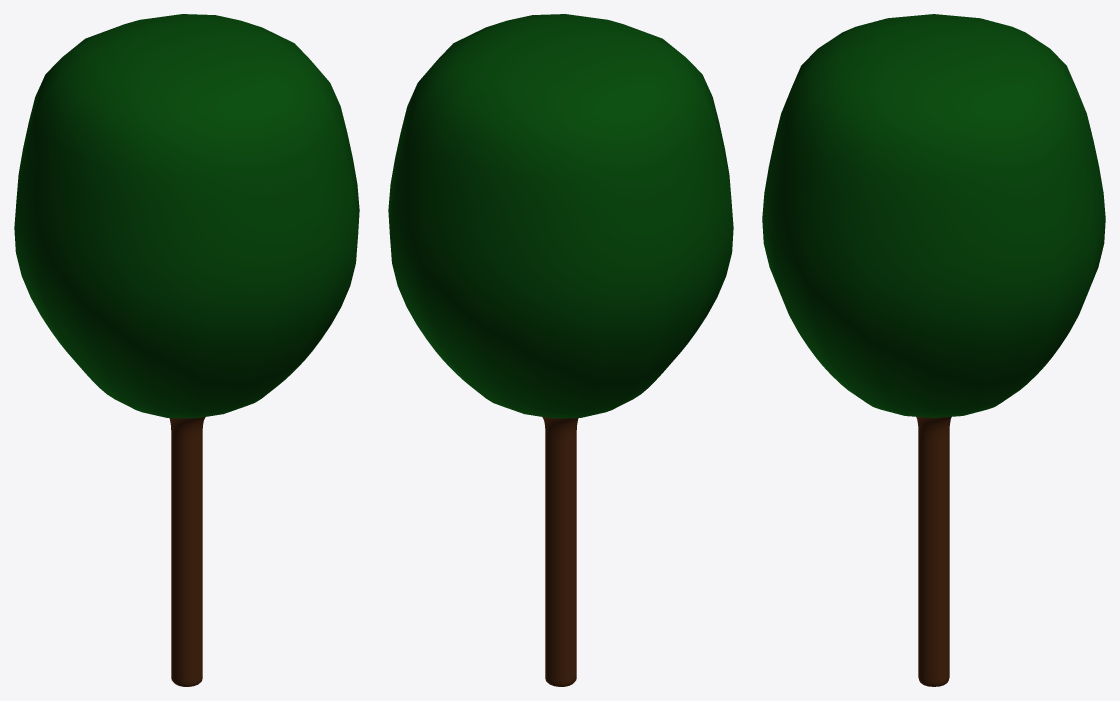
Rendered from LowPolyTree2.fbx.
The picture shows the model from 3 angles, left to right: view 1: azimuth 30°, elevation 25°; view 2: azimuth 150°, elevation 25°; view 3: azimuth 270°, elevation 25°; orthographic projection.
Parts seen in each view (by area): view 1: Cube; view 2: Cube; view 3: Cube.
Part boxes in pixels (left/top/right/bottom): Cube: left=14, top=14, right=359, bottom=686; Cube: left=388, top=14, right=733, bottom=686; Cube: left=762, top=14, right=1105, bottom=686.
Bounding box in the file's own units: 2007 × 4136 × 2007.
